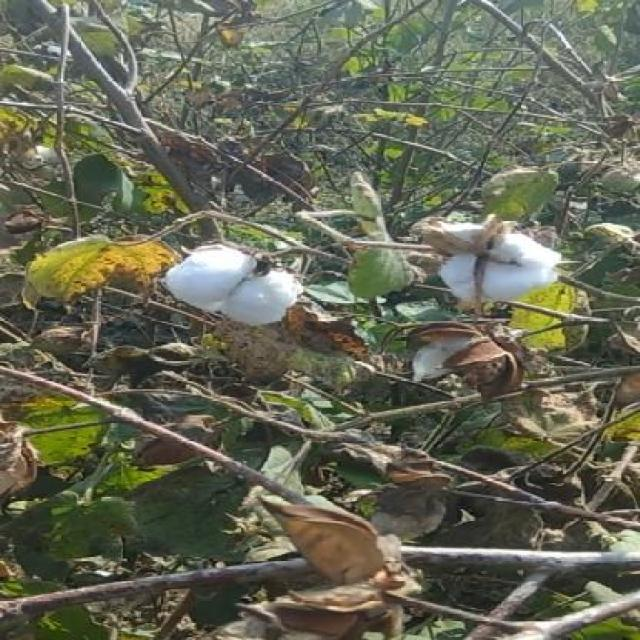cotton_ready: (415, 203, 593, 311), (173, 228, 312, 344)
